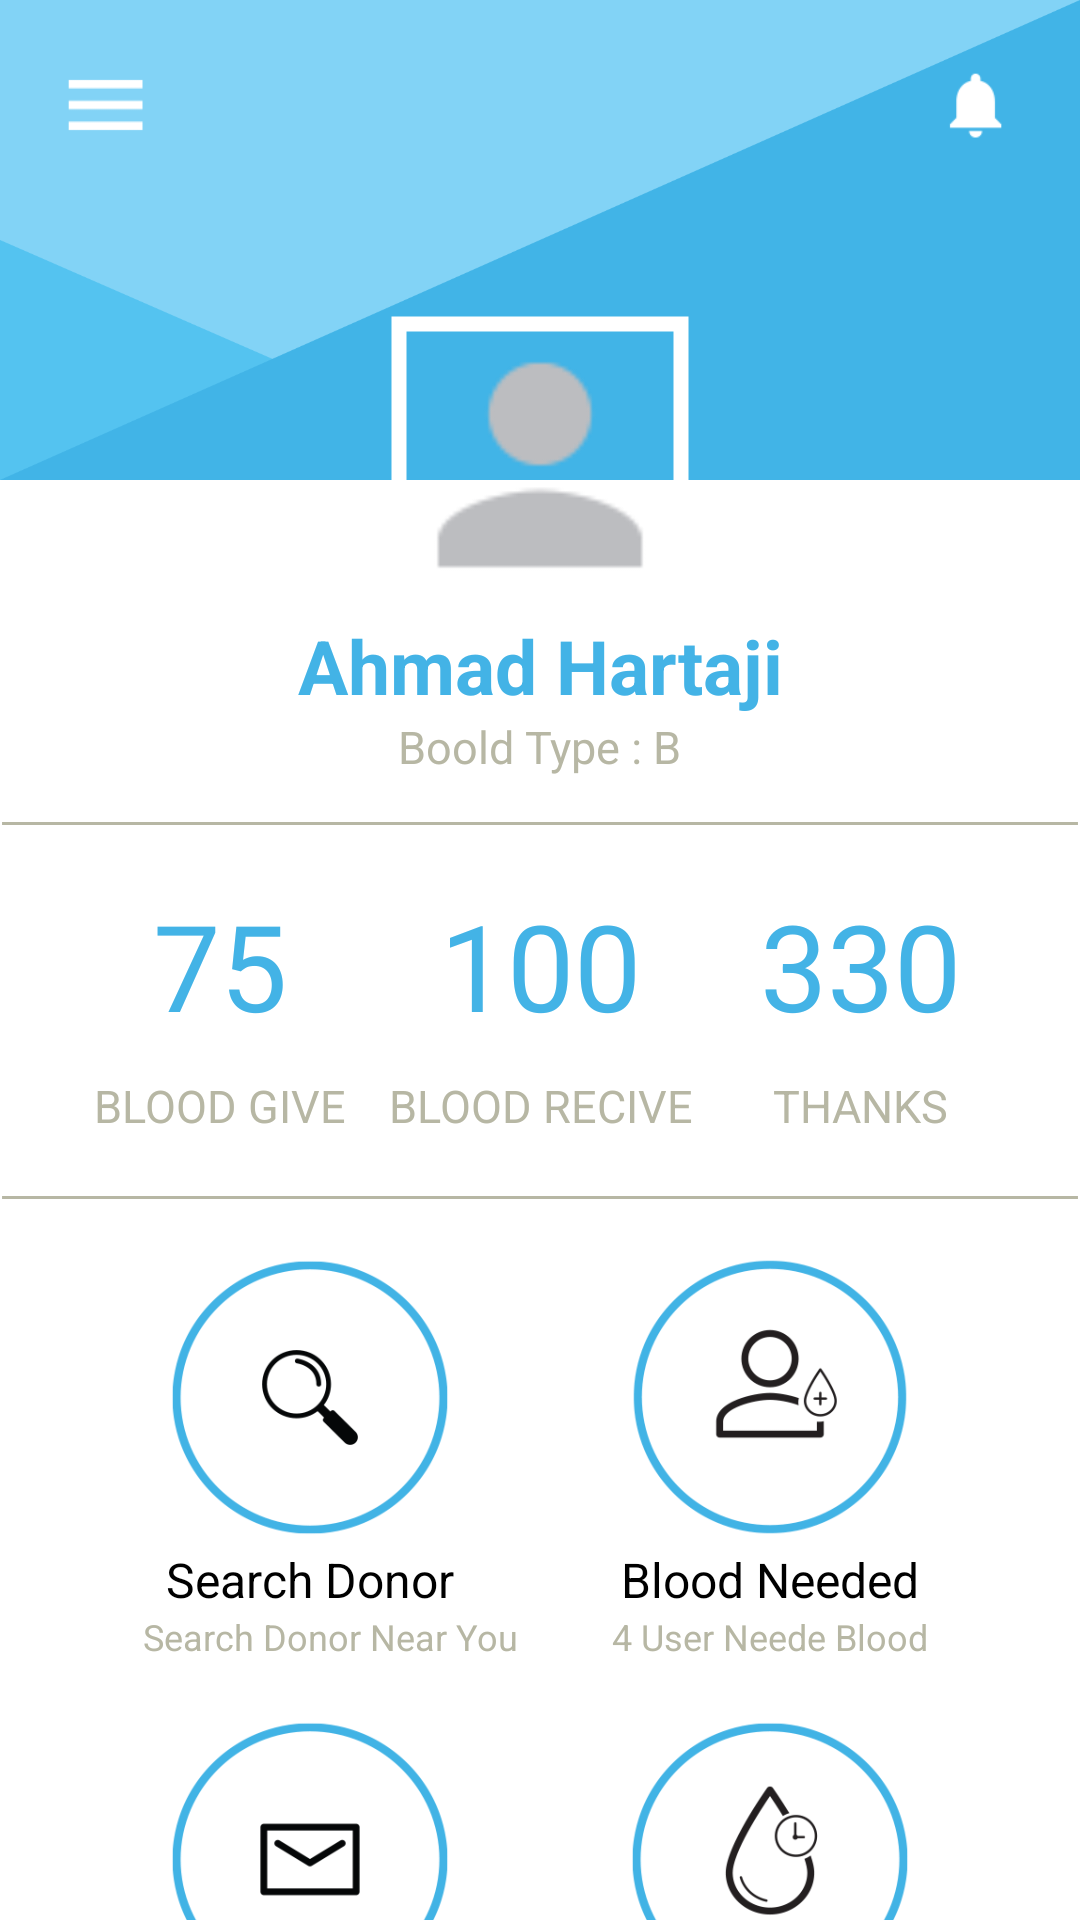

Screen size 1080px x 1920px. Icon name, then its center in pixels as [x,y]:
notification: [976,105]
profile: [540,465]
side menu: [105,105]
